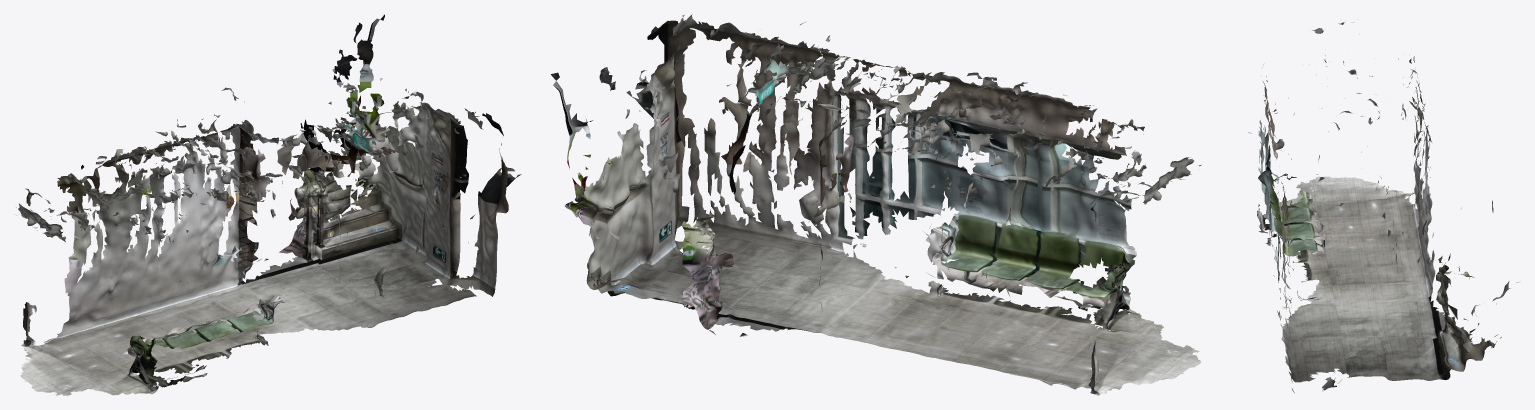
File: 144559-2A-tex.glb
3 views of the same model, side by side, from view 1: azimuth 30°, elevation 25°; view 2: azimuth 150°, elevation 25°; view 3: azimuth 270°, elevation 25° (orthographic). The views are drawn at different scales.
Parts seen in each view (by area): view 1: Node; view 2: Node; view 3: Node.
Boxes of the visible parts, x1,y1,x2,y2 form: Node: [14, 14, 521, 395]; Node: [551, 14, 1201, 395]; Node: [1248, 19, 1518, 392].
Size of the model in its own units: 8.08 by 3.46 by 4.12.
11 materials, 11 textured.
